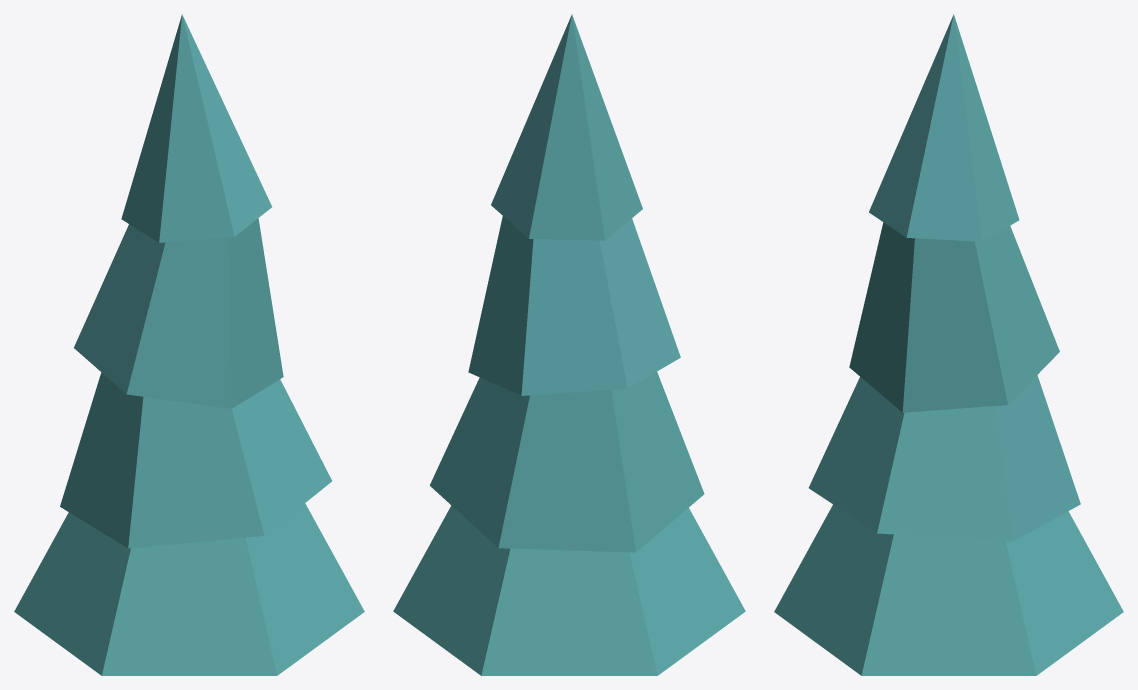
File: tree_pineGroundB.glb
3 views of the same model, side by side, from view 1: azimuth 30°, elevation 25°; view 2: azimuth 150°, elevation 25°; view 3: azimuth 270°, elevation 25° (orthographic).
Visible parts, largest first — view 1: tree_pineGroundB; view 2: tree_pineGroundB; view 3: tree_pineGroundB.
Part boxes in pixels (x1=…): tree_pineGroundB: x1=14, y1=14, x2=364, y2=675; tree_pineGroundB: x1=393, y1=14, x2=745, y2=675; tree_pineGroundB: x1=774, y1=14, x2=1123, y2=675.
Bounding box in the file's own units: 0.4804 × 1.04 × 0.5547.
